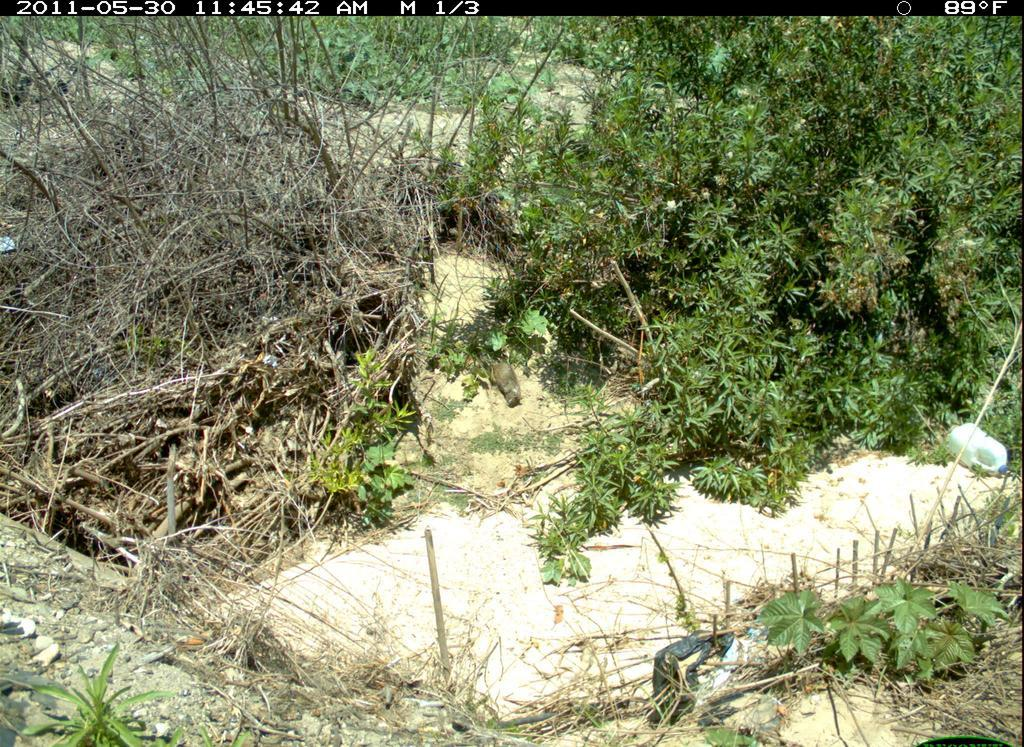squirrel: (481, 351, 529, 415)
